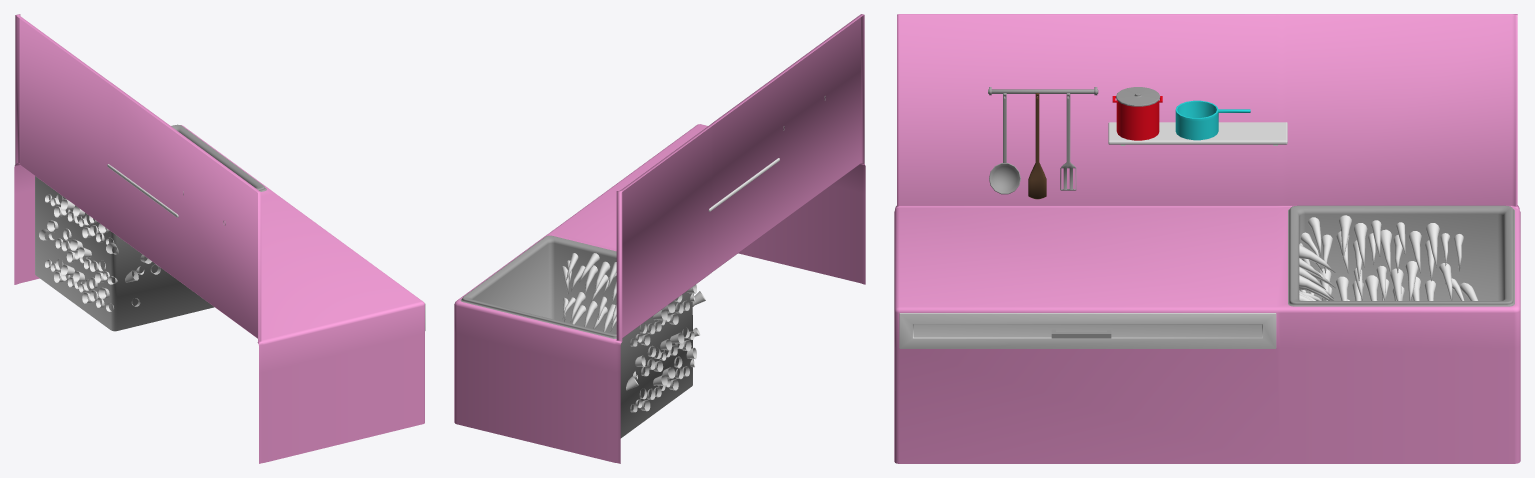
The model's file is P_Arena.fbx.
The picture shows the model from 3 angles, left to right: view 1: azimuth 30°, elevation 25°; view 2: azimuth 150°, elevation 25°; view 3: azimuth 270°, elevation 25°; orthographic projection. The views are drawn at different scales.
Parts seen in each view (by area): view 1: P_Arena; view 2: P_Arena; view 3: P_Arena.
Boxes of the visible parts, x1,y1,x2,y2 form: P_Arena: (14, 14, 425, 463); P_Arena: (454, 14, 865, 463); P_Arena: (894, 14, 1520, 463).
Size of the model in its own units: 18233 by 26960 by 44261.
